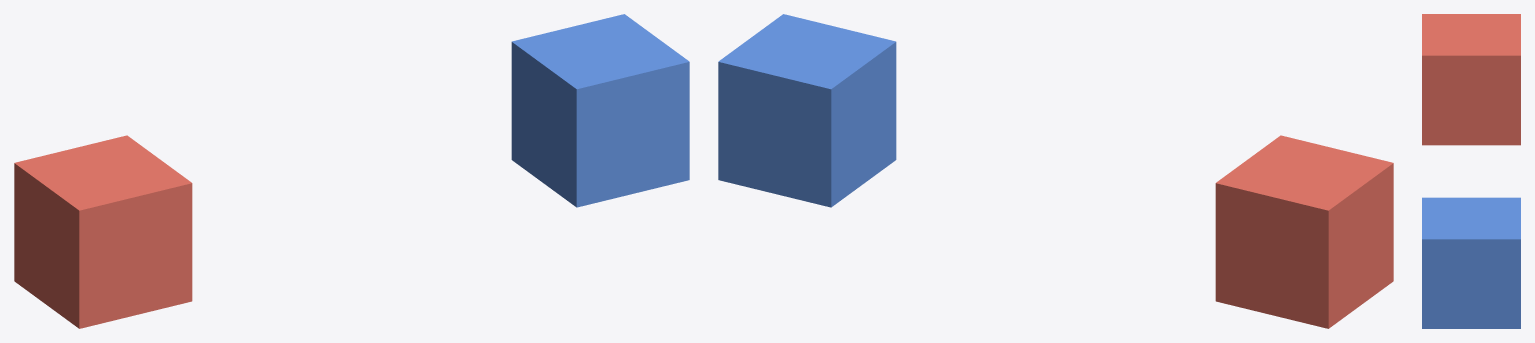
The model's file is pointing-targets.gltf.
The picture shows the model from 3 angles, left to right: view 1: azimuth 30°, elevation 25°; view 2: azimuth 150°, elevation 25°; view 3: azimuth 270°, elevation 25°; orthographic projection. The views are drawn at different scales.
Visible parts, largest first — view 1: TargetA, TargetB; view 2: TargetA, TargetB; view 3: TargetA, TargetB.
Boxes of the visible parts, left/top/right/bottom form: TargetA: left=14, top=135, right=192, bottom=328; TargetB: left=511, top=14, right=689, bottom=207; TargetA: left=1215, top=135, right=1393, bottom=328; TargetB: left=718, top=14, right=896, bottom=207; TargetA: left=1422, top=14, right=1520, bottom=145; TargetB: left=1422, top=197, right=1520, bottom=328.
Size of what is drawn, in the model's own units: 2.7 by 0.5 by 0.5.
